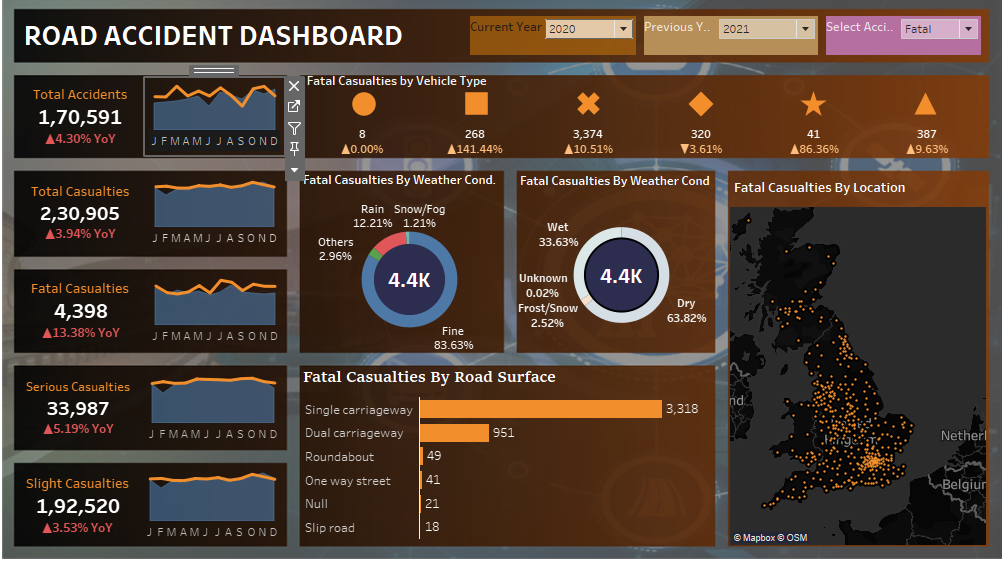

Layout of this report page (visuals, bound fields, positions):
{"tool":"tableau","page":{"name":"Dashboard 1","canvas":[1024,768],"ordinal":0},"visuals":[{"type":"image","param":"D:/Data Analyst/Project/Road Accident Analysis/Background.pptx (1).png","box":[8,8,1008,752]},{"type":"parameter","param":"[Parameters].[Parameter 1]","box":[476,118,174,47]},{"type":"parameter","param":"[Parameters].[Current Year (copy)_850617442908610561]","box":[650,118,182,47]},{"type":"parameter","param":"[Parameters].[Parameter 2]","box":[832,118,163,47]},{"type":"text","box":[31,120,398,41]},{"type":"text","box":[314,171,333,30]},{"type":"worksheet","title":"Total Accidents","mark":"Automatic","box":[26,184,129,77]},{"type":"worksheet","title":"Accidents Sparkline","mark":"Automatic","rows":["CY Accidents (copy)_850617442916196355","Calculation_850617442908876802"],"cols":["Accident Date"],"box":[155,184,139,77]},{"type":"worksheet","title":"Vehicle type images","mark":"Shape","box":[314,191,682,37]},{"type":"worksheet","title":"Vehicle type KPI","mark":"Automatic","box":[314,228,682,35]},{"type":"worksheet","title":"Weather Condition","mark":"Pie","rows":["Calculation_1321806554331262977","Calculation_1321806554331336707"],"box":[309,273,221,193]},{"type":"worksheet","title":"Road Surface","mark":"Pie","rows":["Calculation_1321806554331262977","Calculation_1321806554331336707"],"box":[526,274,211,182]},{"type":"worksheet","title":"Total Casualties","mark":"Automatic","box":[25,280,131,77]},{"type":"worksheet","title":"Total Casualties Sparkline","mark":"Automatic","rows":["CY Casualties (copy)_850617442923020294","Calculation_850617442921742341"],"cols":["Accident Date"],"box":[156,280,136.9,77]},{"type":"worksheet","title":"By Location","mark":"Automatic","rows":["Latitude"],"cols":["Longitude"],"box":[740,280,256,371]},{"type":"worksheet","title":"Fatal Casualties","mark":"Automatic","box":[26,378,130,77]},{"type":"worksheet","title":"Fatal Casualties Sparkline","mark":"Automatic","rows":["CY Fatal Casualties (copy)_850617442929922057","Calculation_850617442928857096"],"cols":["Accident Date"],"box":[156,378,138,77]},{"type":"legend","title":"Road type","param":"[Parameters].[Parameter 2]","box":[829,452,140,38]},{"type":"worksheet","title":"Road type","mark":"Automatic","rows":["Road_Type"],"cols":["Calculation_850617442921742341"],"box":[309,472,416,173]},{"type":"worksheet","title":"Serious Casualties","mark":"Automatic","box":[26,476,126,77]},{"type":"worksheet","title":"Serious Casualties Sparkline","mark":"Automatic","rows":["PY Fatal Casualties (copy)_850617442930741260","CY Fatal Casualties (copy)_850617442930593803"],"cols":["Accident Date"],"box":[152,476,141.9,77]},{"type":"worksheet","title":"Slight Casualties","mark":"Automatic","box":[26,572,124,79]},{"type":"worksheet","title":"Slight Casualties Sparkline","mark":"Automatic","rows":["PY Serious Casualties  (copy)_850617442931859471","CY Serious Casualties  (copy)_850617442931769358"],"cols":["Accident Date"],"box":[150,572,143.9,79]}]}

Visuals, with their boxes on the page's 1024x768 design canvas (x1, y1, x2, y2). These are canvas units, not pixel positions in the 1008x564 screenshot, which may show the page scaled, cropped or inside an application window:
image: <region>8, 8, 1016, 760</region>
parameter: <region>476, 118, 650, 165</region>
parameter: <region>650, 118, 832, 165</region>
parameter: <region>832, 118, 995, 165</region>
text: <region>31, 120, 429, 161</region>
text: <region>314, 171, 647, 201</region>
"Total Accidents" worksheet: <region>26, 184, 155, 261</region>
"Accidents Sparkline" worksheet: <region>155, 184, 294, 261</region>
"Vehicle type images" worksheet (Shape marks): <region>314, 191, 996, 228</region>
"Vehicle type KPI" worksheet: <region>314, 228, 996, 263</region>
"Weather Condition" worksheet (Pie marks): <region>309, 273, 530, 466</region>
"Road Surface" worksheet (Pie marks): <region>526, 274, 737, 456</region>
"Total Casualties" worksheet: <region>25, 280, 156, 357</region>
"Total Casualties Sparkline" worksheet: <region>156, 280, 293, 357</region>
"By Location" worksheet: <region>740, 280, 996, 651</region>
"Fatal Casualties" worksheet: <region>26, 378, 156, 455</region>
"Fatal Casualties Sparkline" worksheet: <region>156, 378, 294, 455</region>
"Road type" legend: <region>829, 452, 969, 490</region>
"Road type" worksheet: <region>309, 472, 725, 645</region>
"Serious Casualties" worksheet: <region>26, 476, 152, 553</region>
"Serious Casualties Sparkline" worksheet: <region>152, 476, 294, 553</region>
"Slight Casualties" worksheet: <region>26, 572, 150, 651</region>
"Slight Casualties Sparkline" worksheet: <region>150, 572, 294, 651</region>
